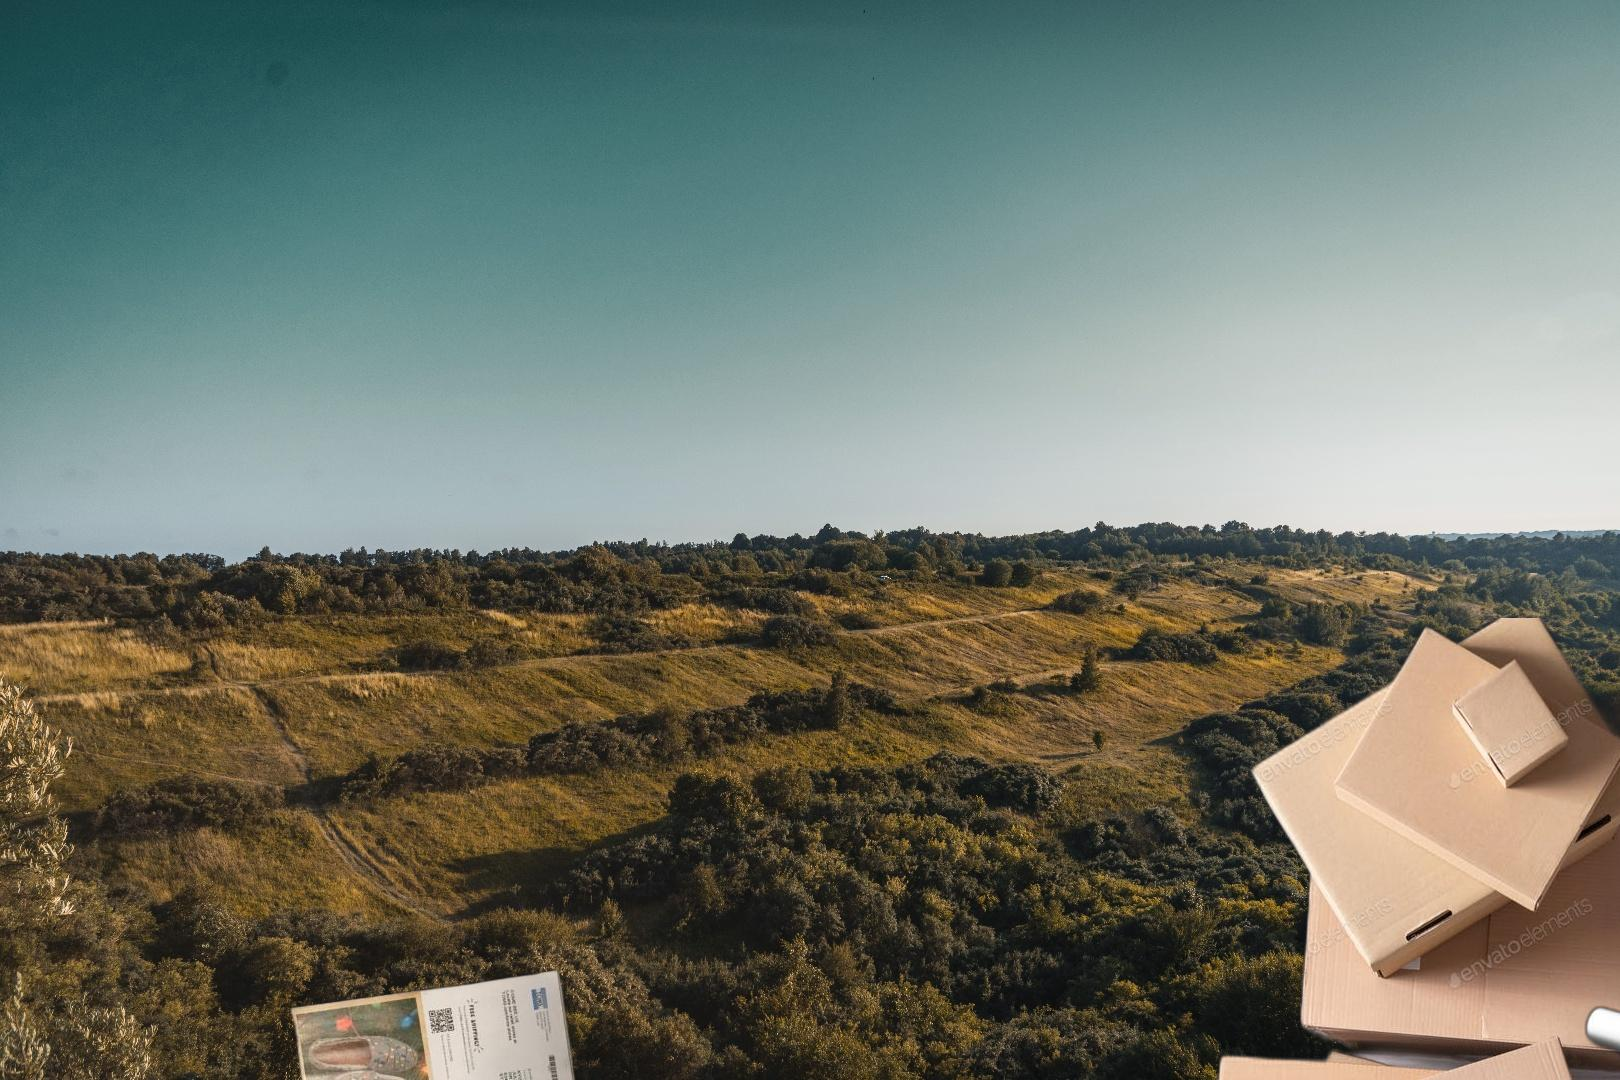paper: (284, 967, 591, 1080)
penholder: (1546, 796, 1620, 1080)
trashbox-cardboard: (352, 824, 1620, 1080), (1192, 618, 1620, 1080)
